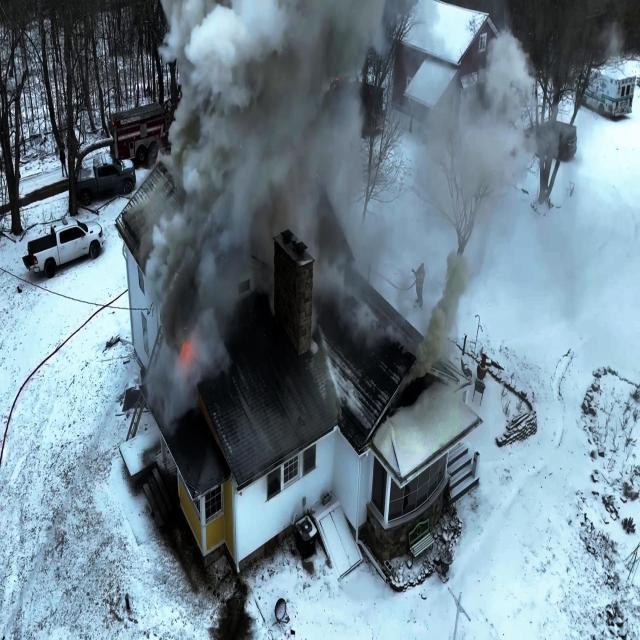Fire: (170, 327, 196, 370)
Smoke: (141, 0, 384, 324), (408, 22, 528, 396), (151, 348, 179, 428), (196, 326, 230, 376), (180, 372, 197, 412)
